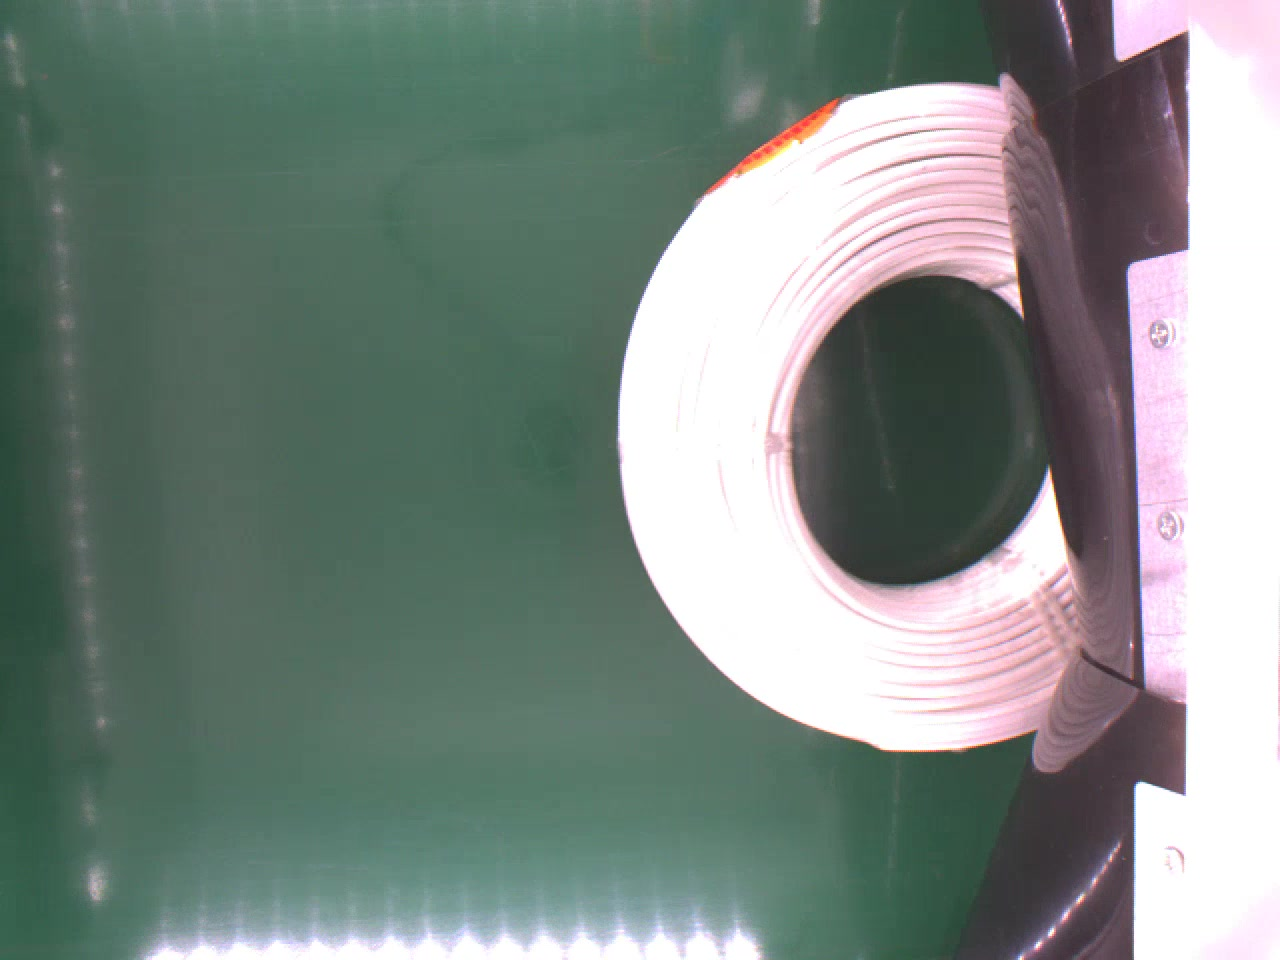white: (615, 71, 1086, 761)
